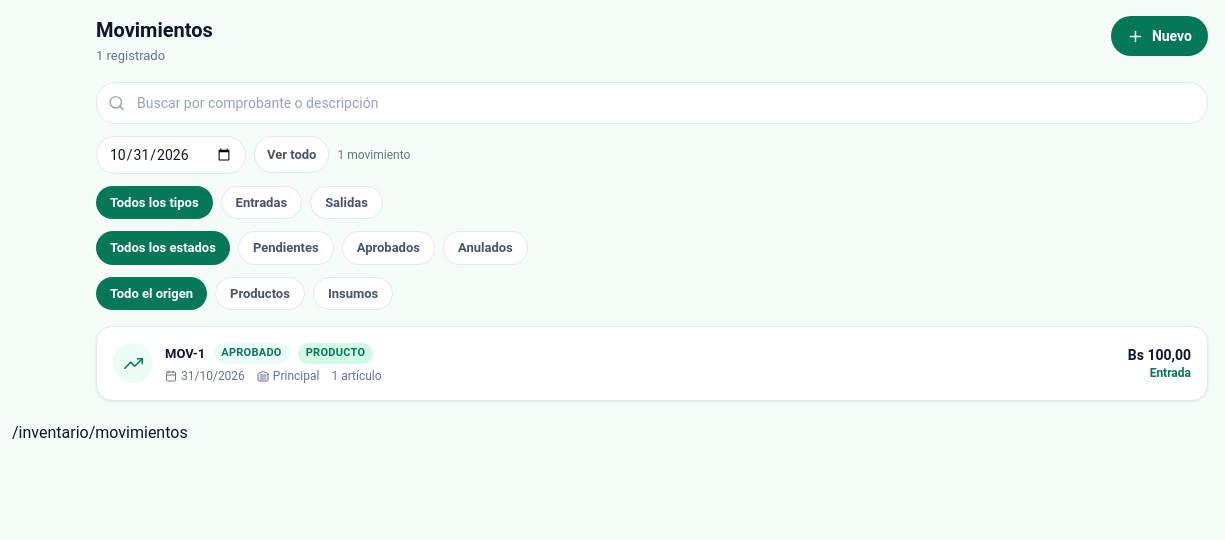
Test: La lista arranca en hoy › la cabecera no suma los movimientos de otros días mientras la lista está en hoy
This screenshot has width=1225, height=540.
Expected: the text "MOV-1" is shown, [165, 344, 205, 363]
Expected: the text "1 registrado" is shown, [96, 48, 165, 63]
What coordinates should you click on to do the following:
click the button "Ver todo"
I would click on:
 (292, 155)
Its box is [254, 136, 330, 173].
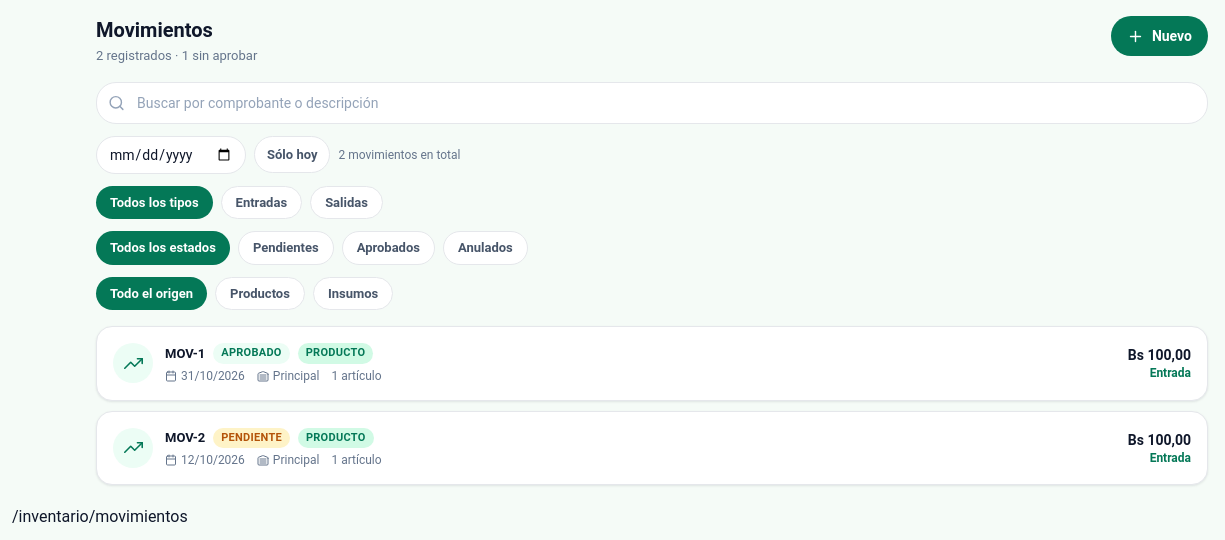
Now the text "2 registrados · 1 sin aprobar" is shown, box [96, 48, 257, 63]
